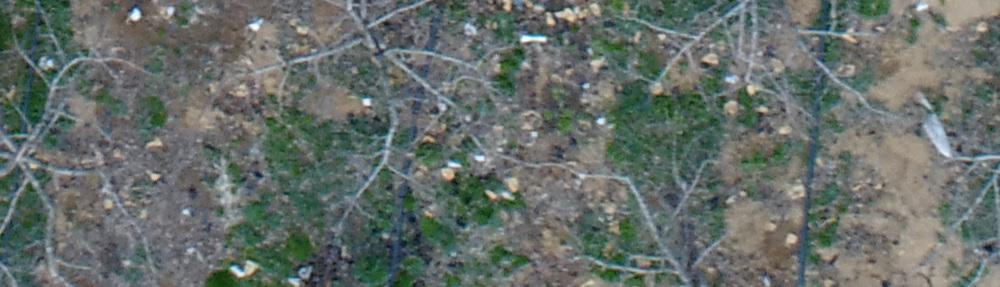apple: (242, 10, 504, 219)
